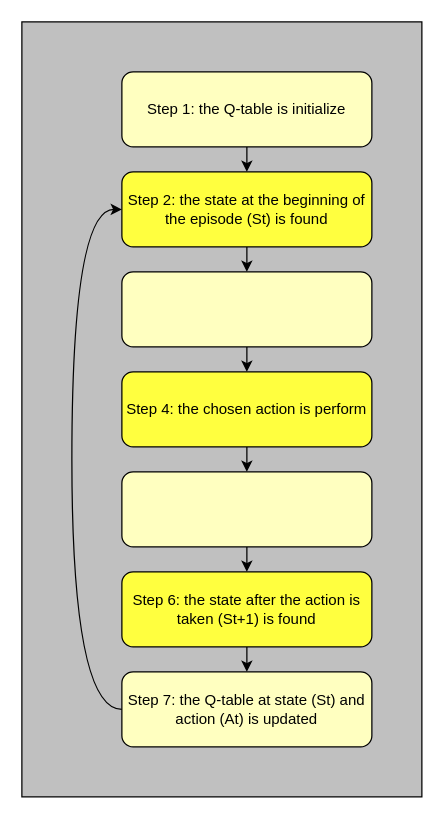
Image size: 444x819. Some labels were removed from this diagram. The centre of each missing label's shape, as x and y in pixels:
Step 3: a action (At) is chosen: pixel 246 309
Step 5: the reward (R(t+1)) from the action is calculated: pixel 246 509
